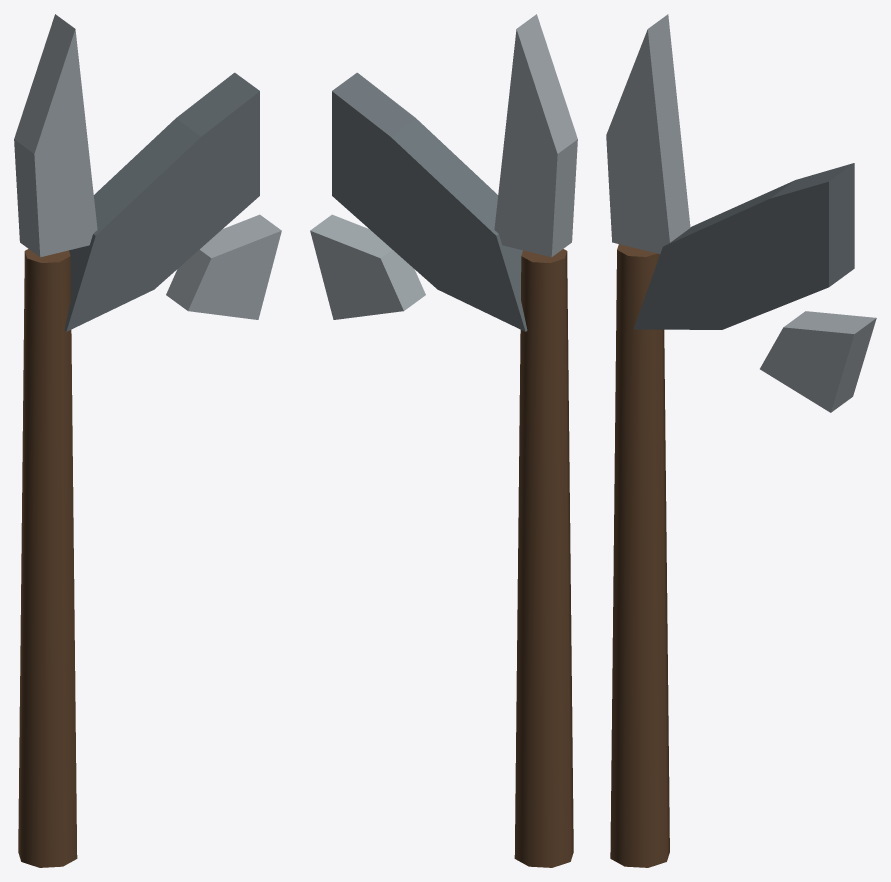
Rendered from halberd.glb.
The picture shows the model from 3 angles, left to right: view 1: azimuth 30°, elevation 25°; view 2: azimuth 150°, elevation 25°; view 3: azimuth 330°, elevation 25°; orthographic projection.
Visible parts, largest first — view 1: halberd-pole, halberd-axe-head, halberd-top-spike, halberd-hook; view 2: halberd-pole, halberd-axe-head, halberd-top-spike, halberd-hook; view 3: halberd-pole, halberd-axe-head, halberd-top-spike, halberd-hook.
Boxes of the visible parts, left/top/right/bottom form: halberd-pole: left=18, top=249, right=77, bottom=867; halberd-axe-head: left=64, top=72, right=259, bottom=331; halberd-top-spike: left=14, top=14, right=97, bottom=257; halberd-hook: left=166, top=214, right=281, bottom=319; halberd-pole: left=514, top=249, right=573, bottom=867; halberd-axe-head: left=332, top=72, right=527, bottom=331; halberd-top-spike: left=494, top=14, right=577, bottom=257; halberd-hook: left=310, top=214, right=425, bottom=319; halberd-pole: left=610, top=244, right=669, bottom=867; halberd-axe-head: left=633, top=163, right=854, bottom=329; halberd-top-spike: left=606, top=14, right=690, bottom=253; halberd-hook: left=760, top=311, right=876, bottom=412.
Bounding box in the file's own units: 0.425 × 1.35 × 0.09.
